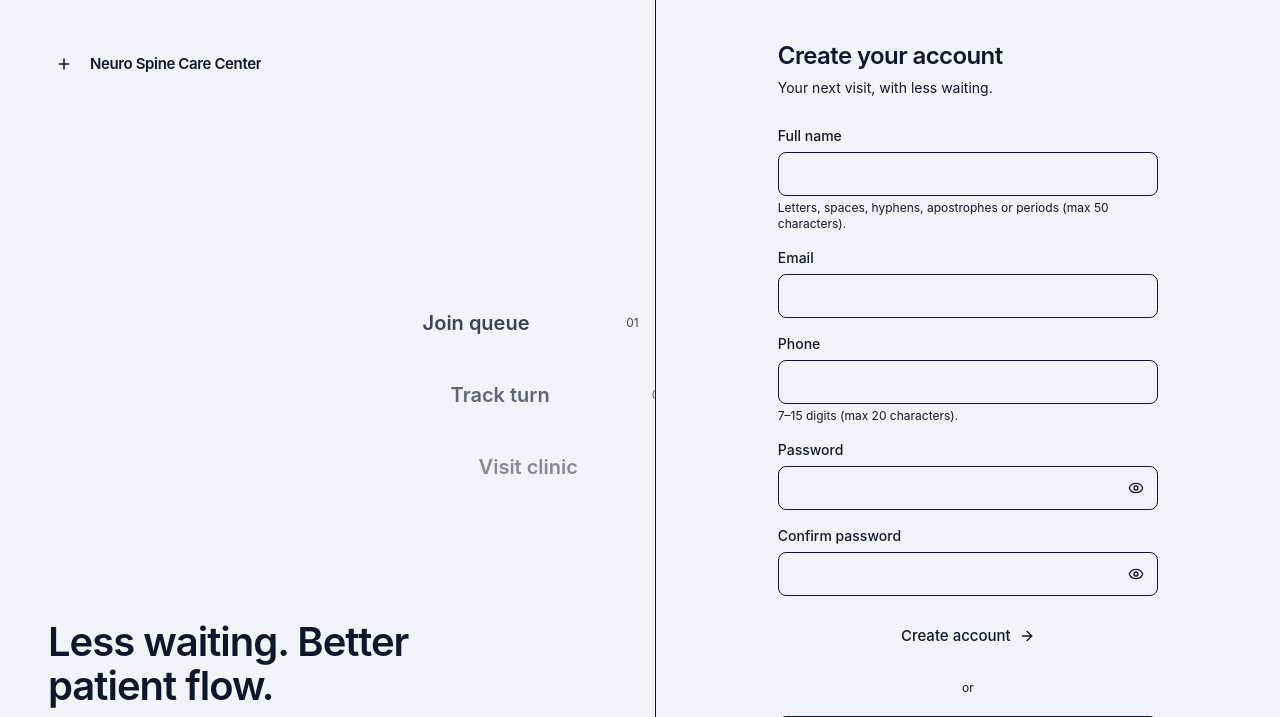
Test: Audit fixes verification › Register empty email shows Email is required and Full name maxLength is 50
Type "Valid Patient" into the field labelled "Full name" at (968, 174), box [778, 152, 1158, 196]
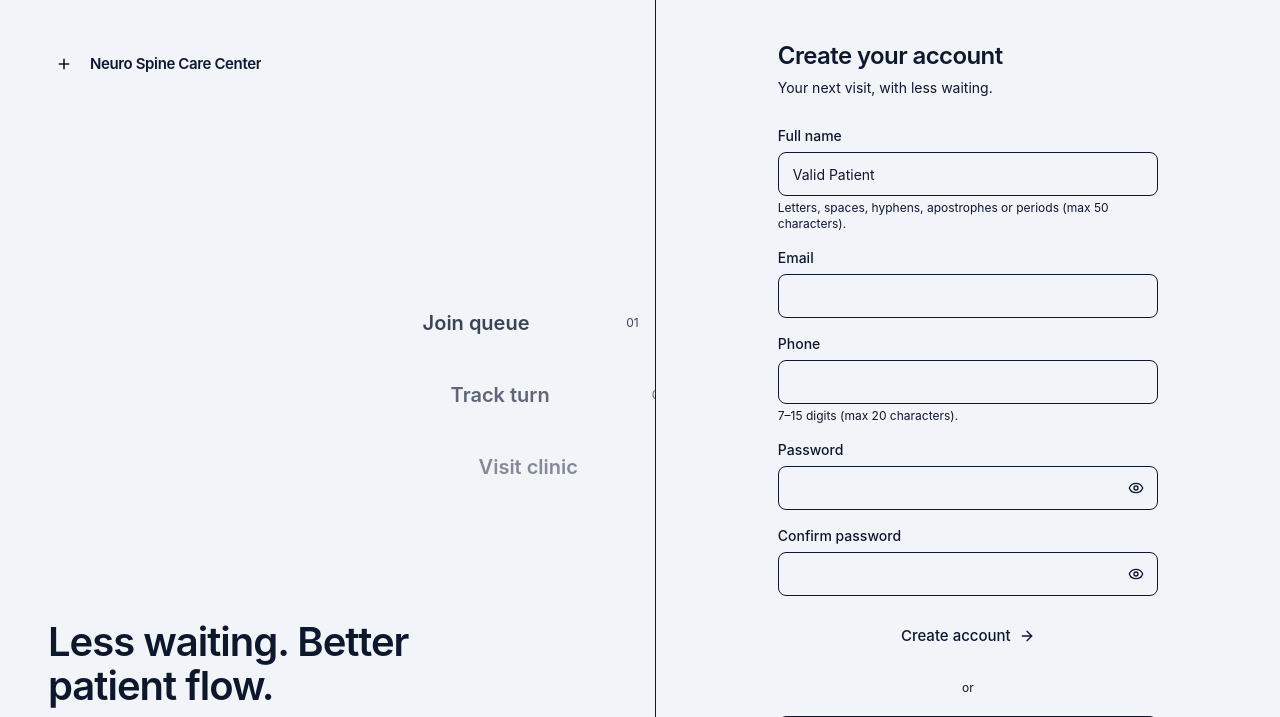
Type "03001234567" into the field labelled "Phone" at (968, 382), box [778, 360, 1158, 404]
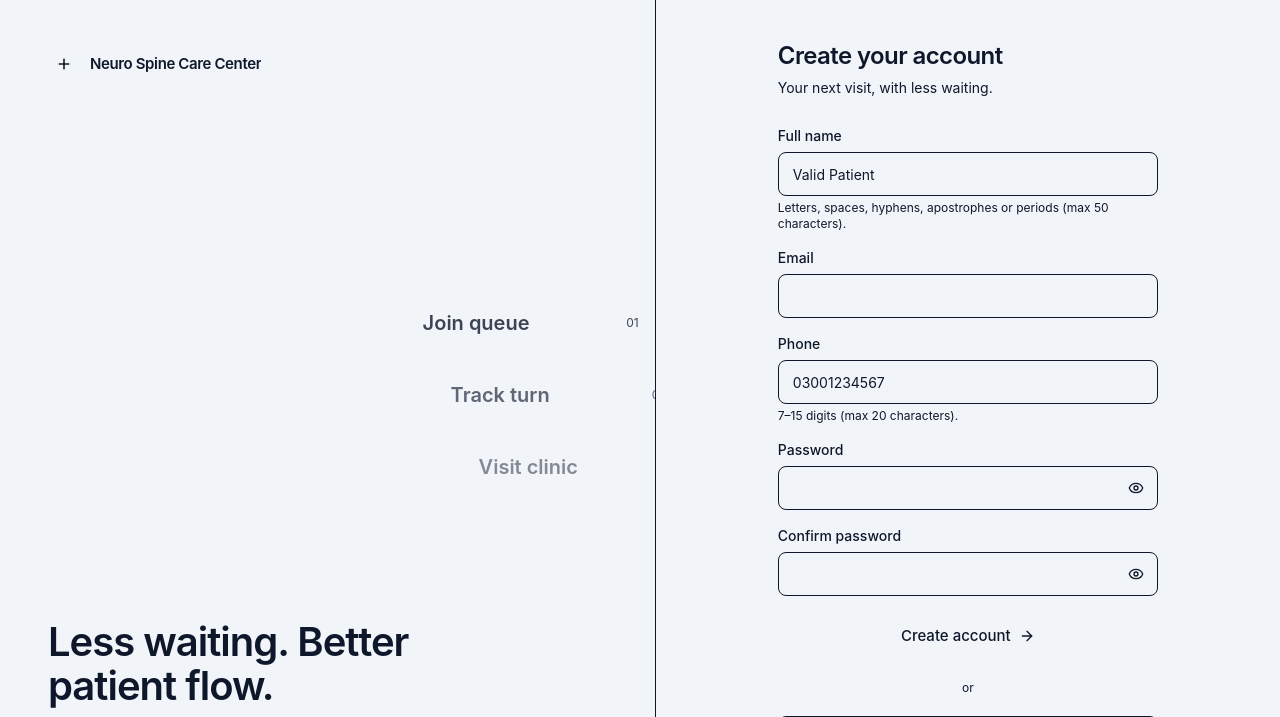
Type "StrongPass123!" into the password field labelled "Password" at (968, 488), box [778, 466, 1158, 510]
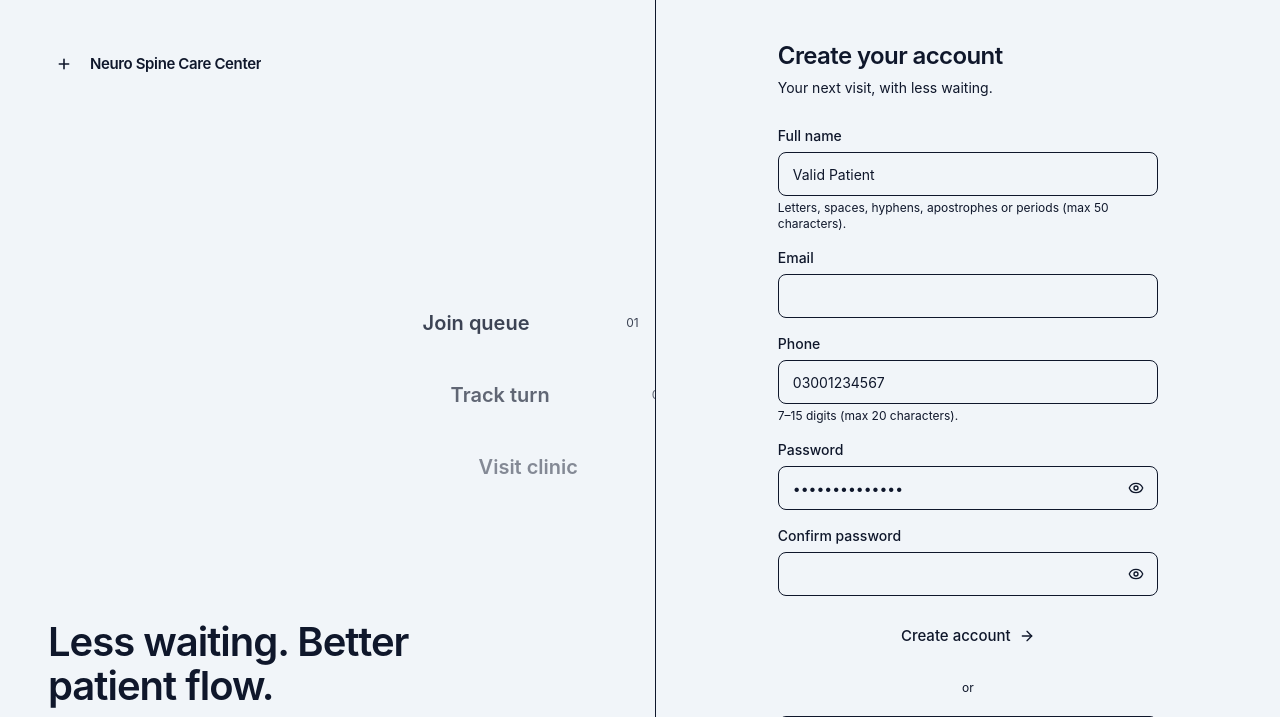
Type "StrongPass123!" into the password field labelled "Confirm password" at (968, 574), box [778, 552, 1158, 596]
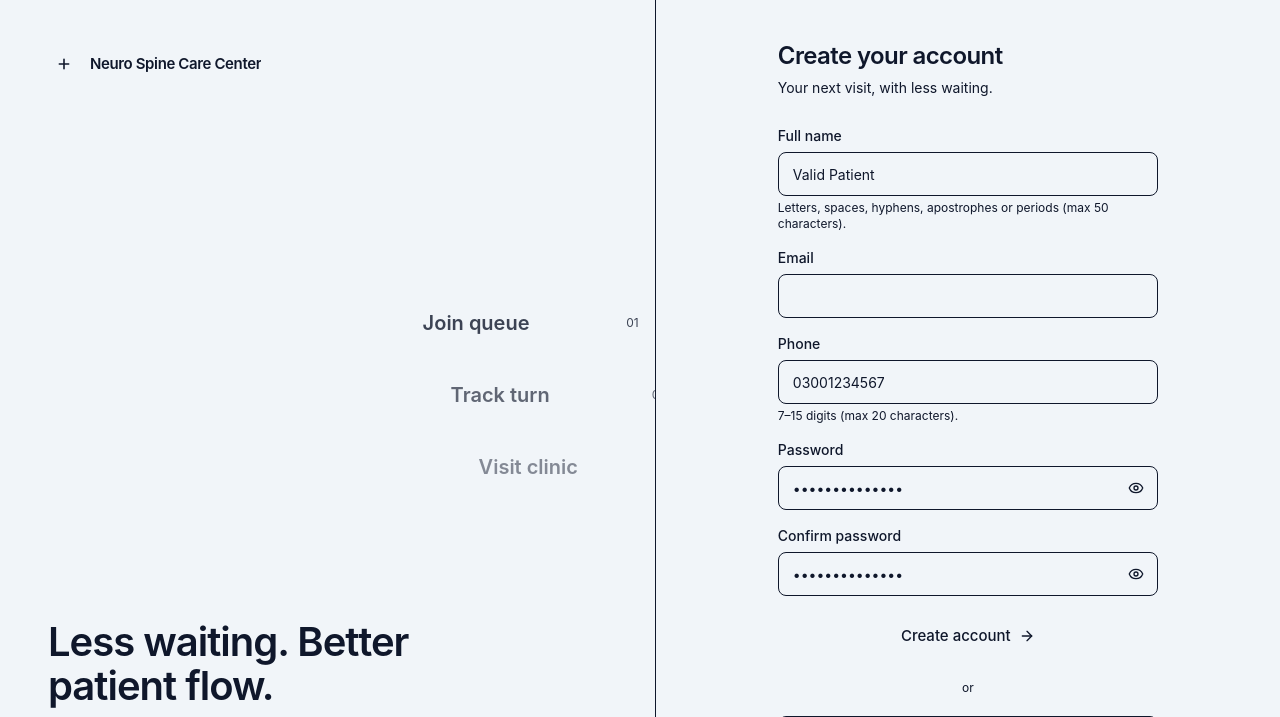
Click the button "Create account" at (968, 636), box [778, 612, 1158, 660]
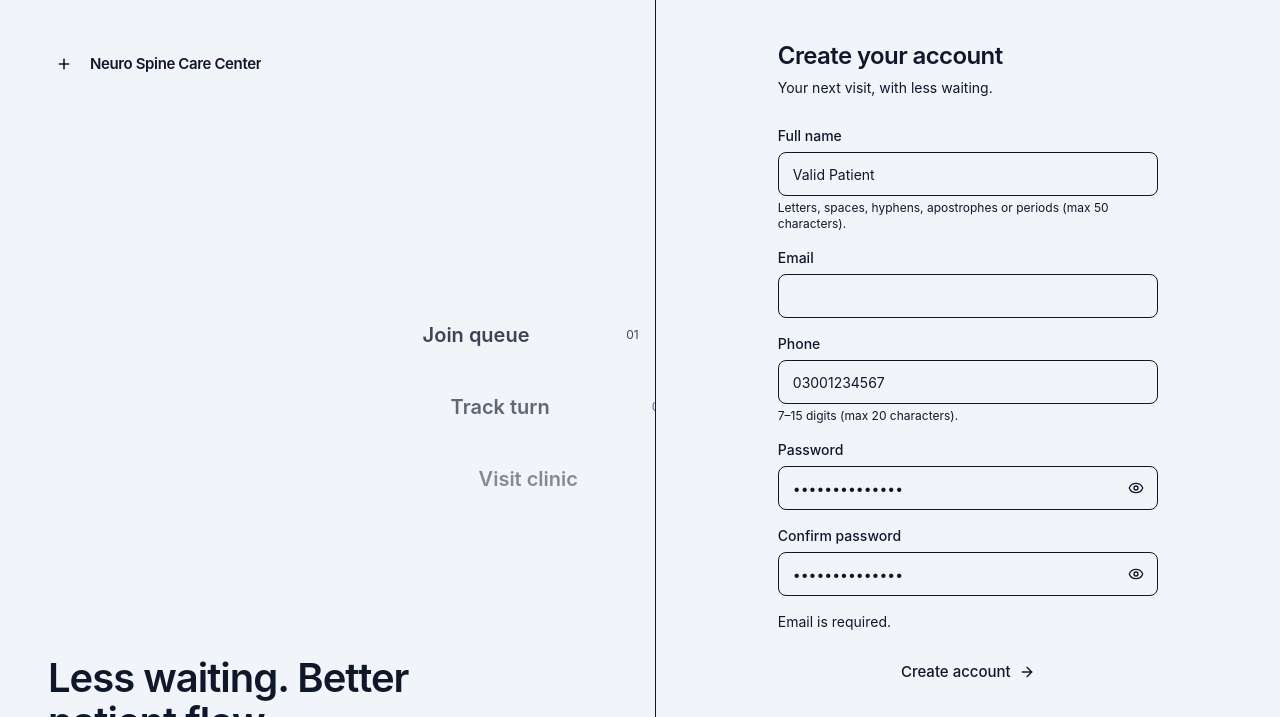
Now the message reads "Email is required.", box [778, 613, 891, 630]
